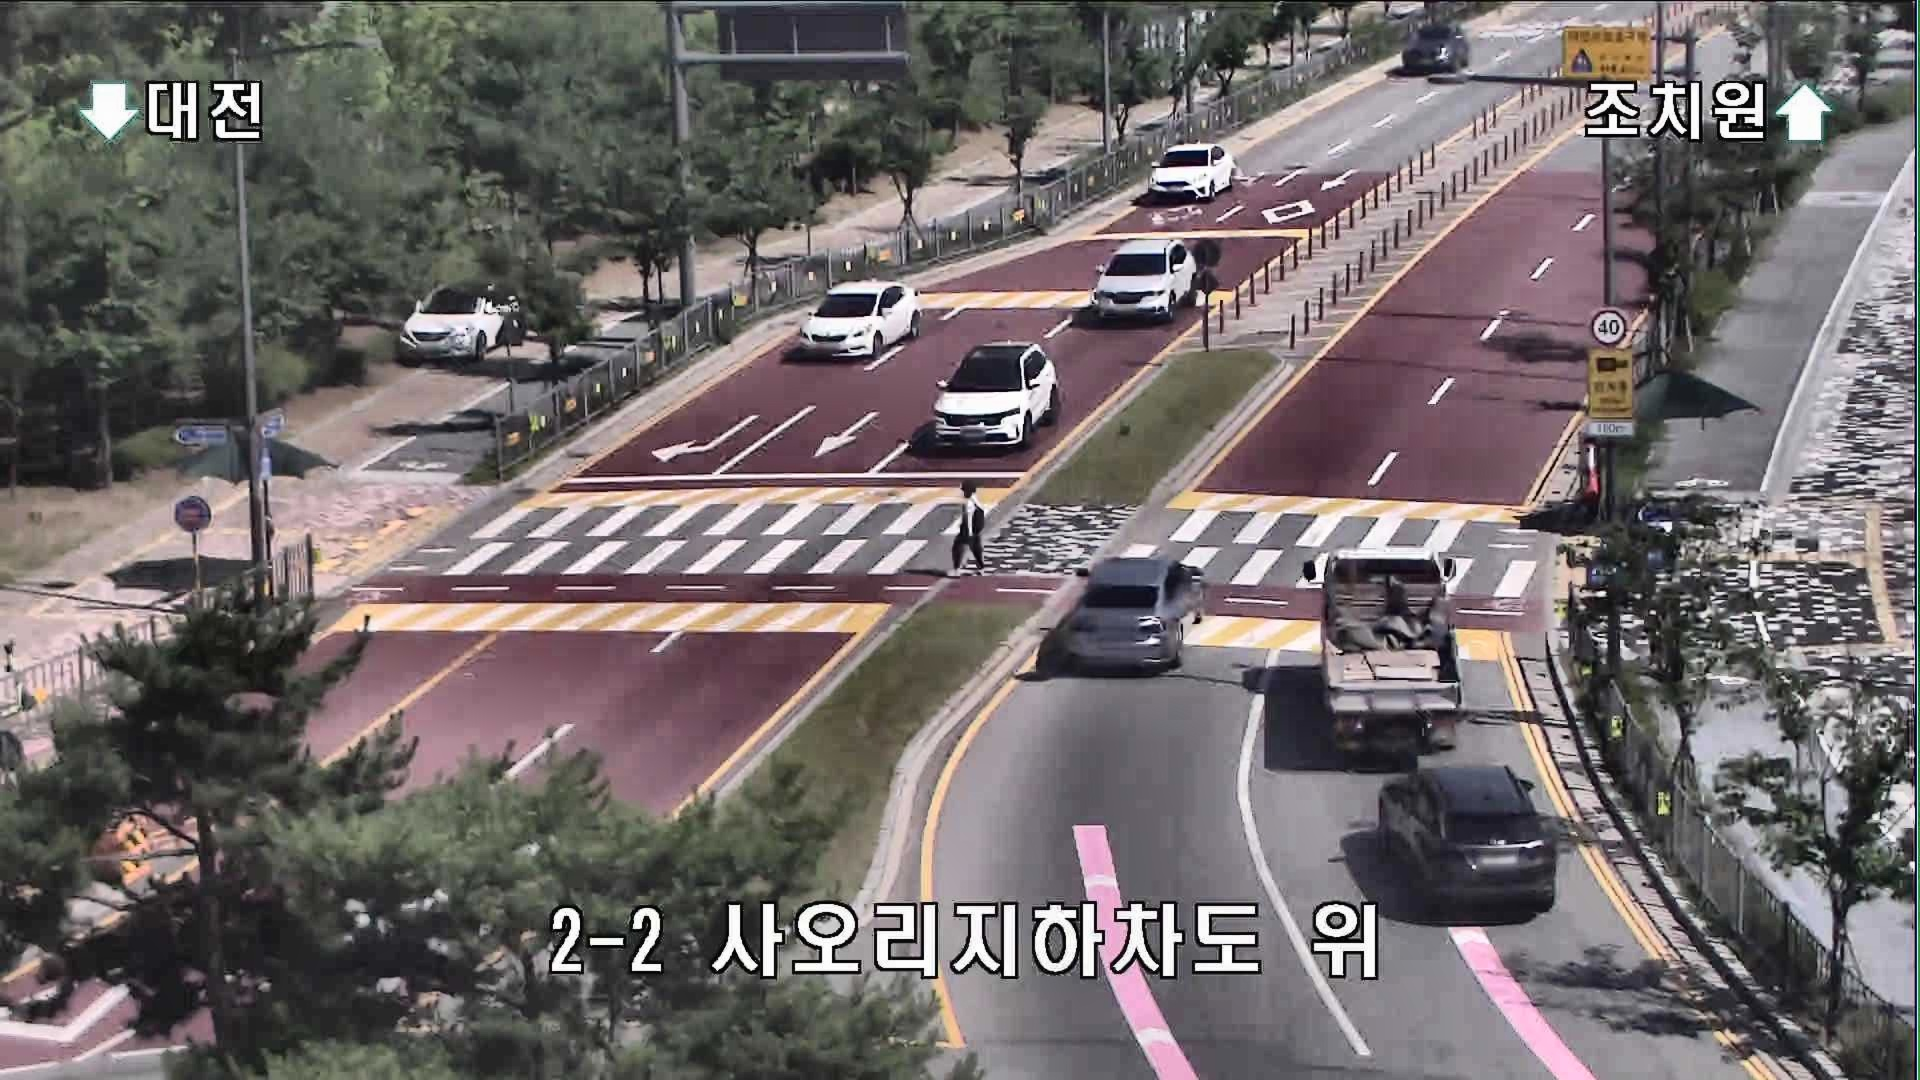crosswalk: (931, 481, 989, 580)
